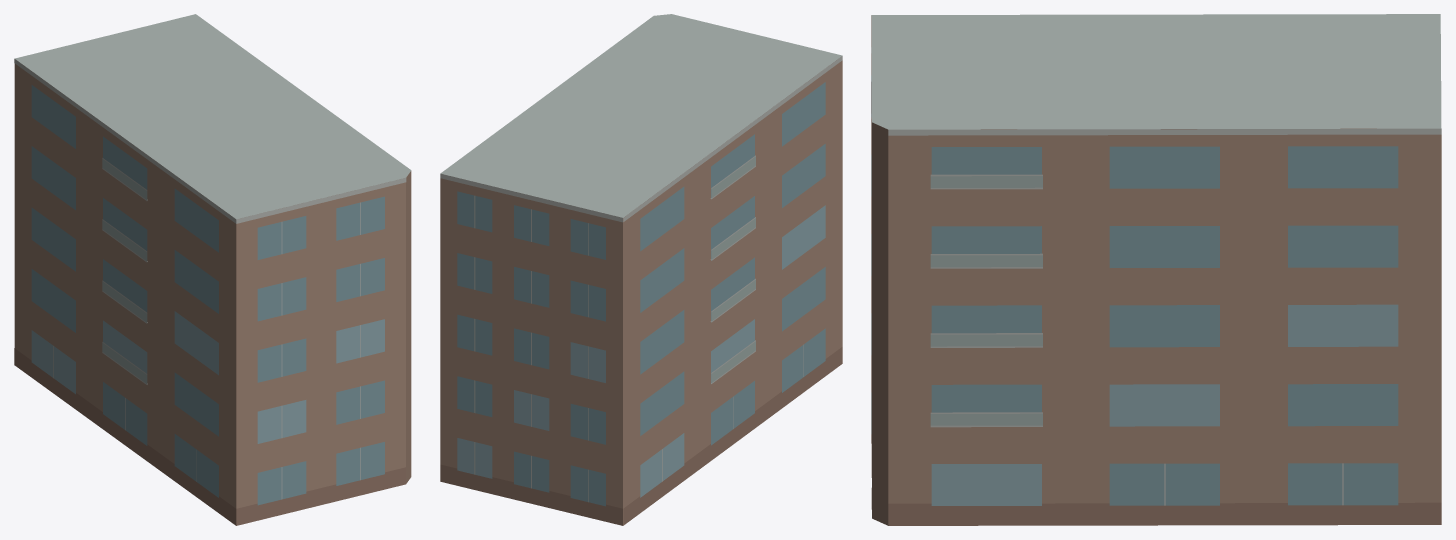
Rendered from survey-upis-32726681.glb.
3 views of the same model, side by side, from view 1: azimuth 30°, elevation 25°; view 2: azimuth 150°, elevation 25°; view 3: azimuth 270°, elevation 25° (orthographic). The views are drawn at different scales.
Visible parts, largest first — view 1: survey-upis-32726681.tmp; view 2: survey-upis-32726681.tmp; view 3: survey-upis-32726681.tmp.
Boxes of the visible parts, <box> form: survey-upis-32726681.tmp: <box>14,14,411,525</box>; survey-upis-32726681.tmp: <box>440,14,842,525</box>; survey-upis-32726681.tmp: <box>871,14,1441,525</box>.
Size of the model in its own units: 10.24 by 16.3 by 21.26.
